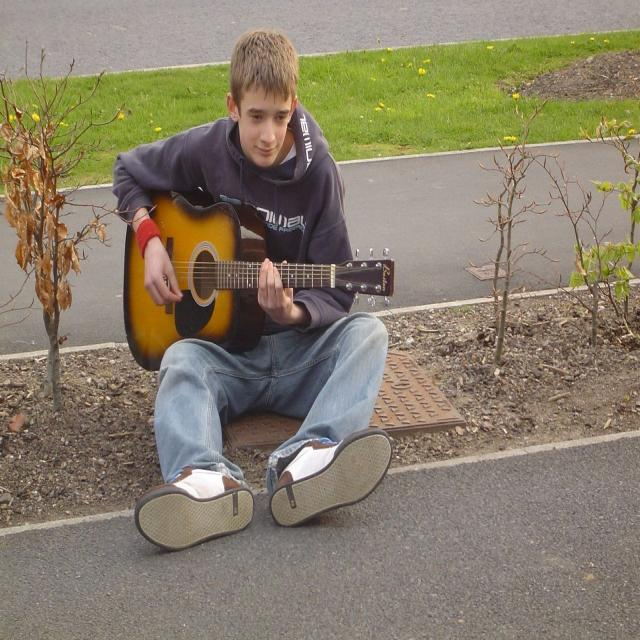guitar: (123, 188, 394, 378)
